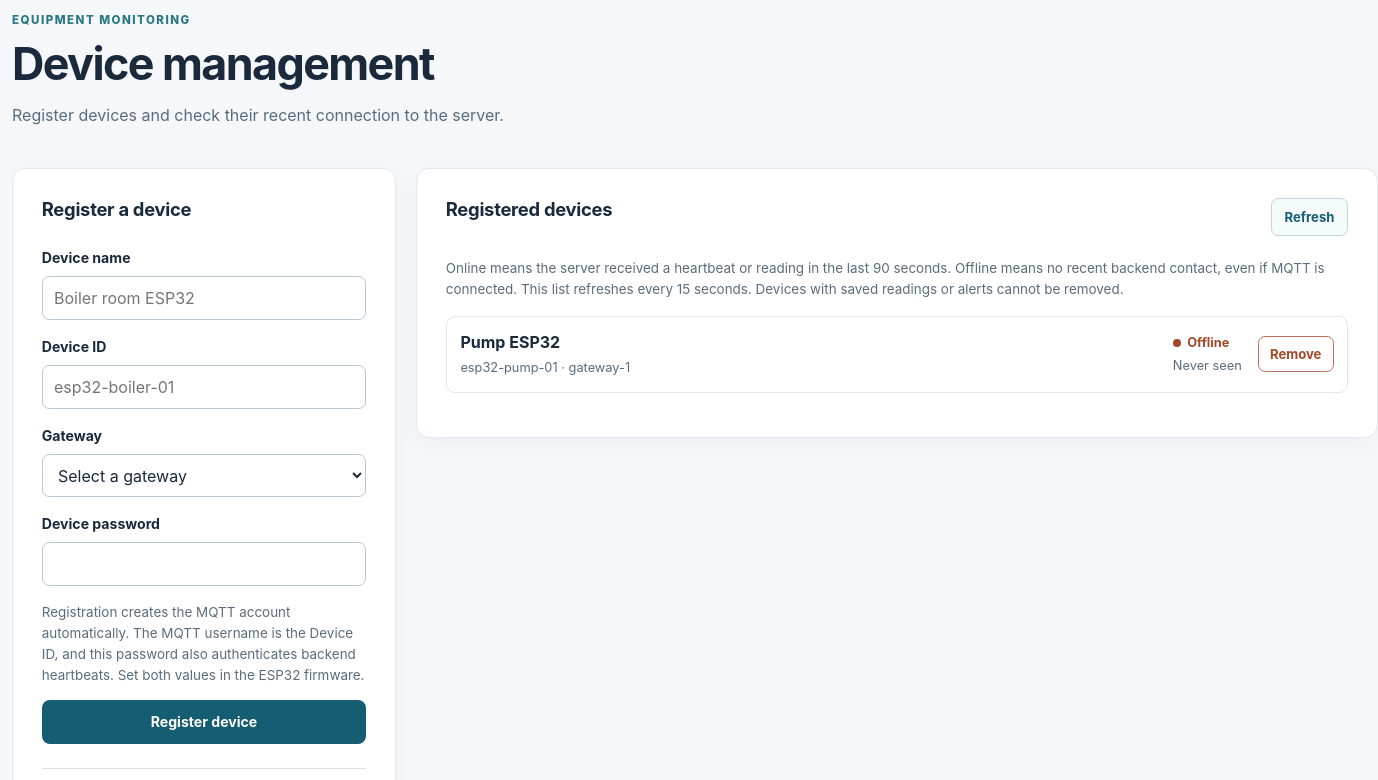
Test: device management › keeps a device visible when saved history blocks removal
The image size is (1378, 780).
Click the button with aria-label "Remove Pump ESP32 (esp32-pump-01)". click: click(1296, 354)
box: [1258,336,1334,372]
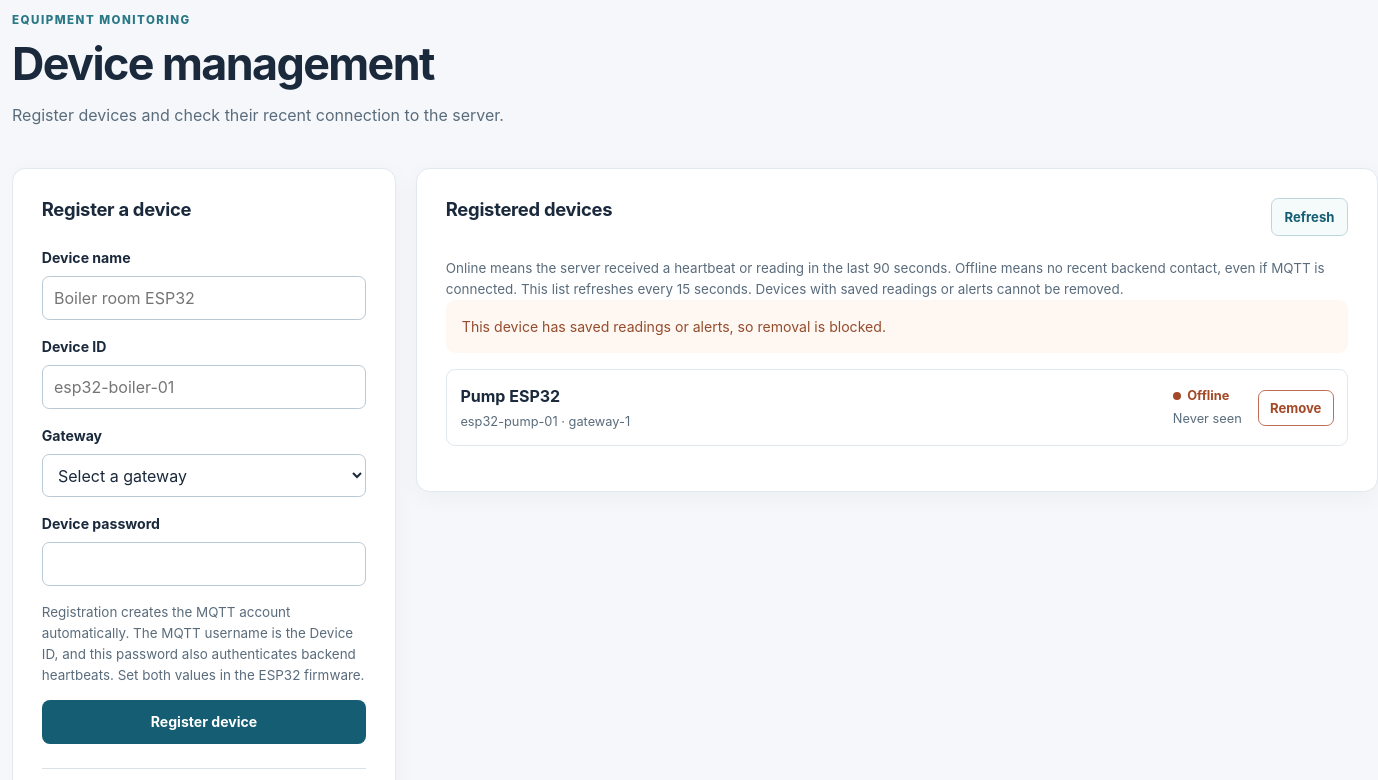
Expected: the text "esp32-pump-01 · gateway-1" is shown, [460,412,630,432]
Now the message reads "This device has saved readings or alerts, so removal is blocked.", box [462,318,886,335]
